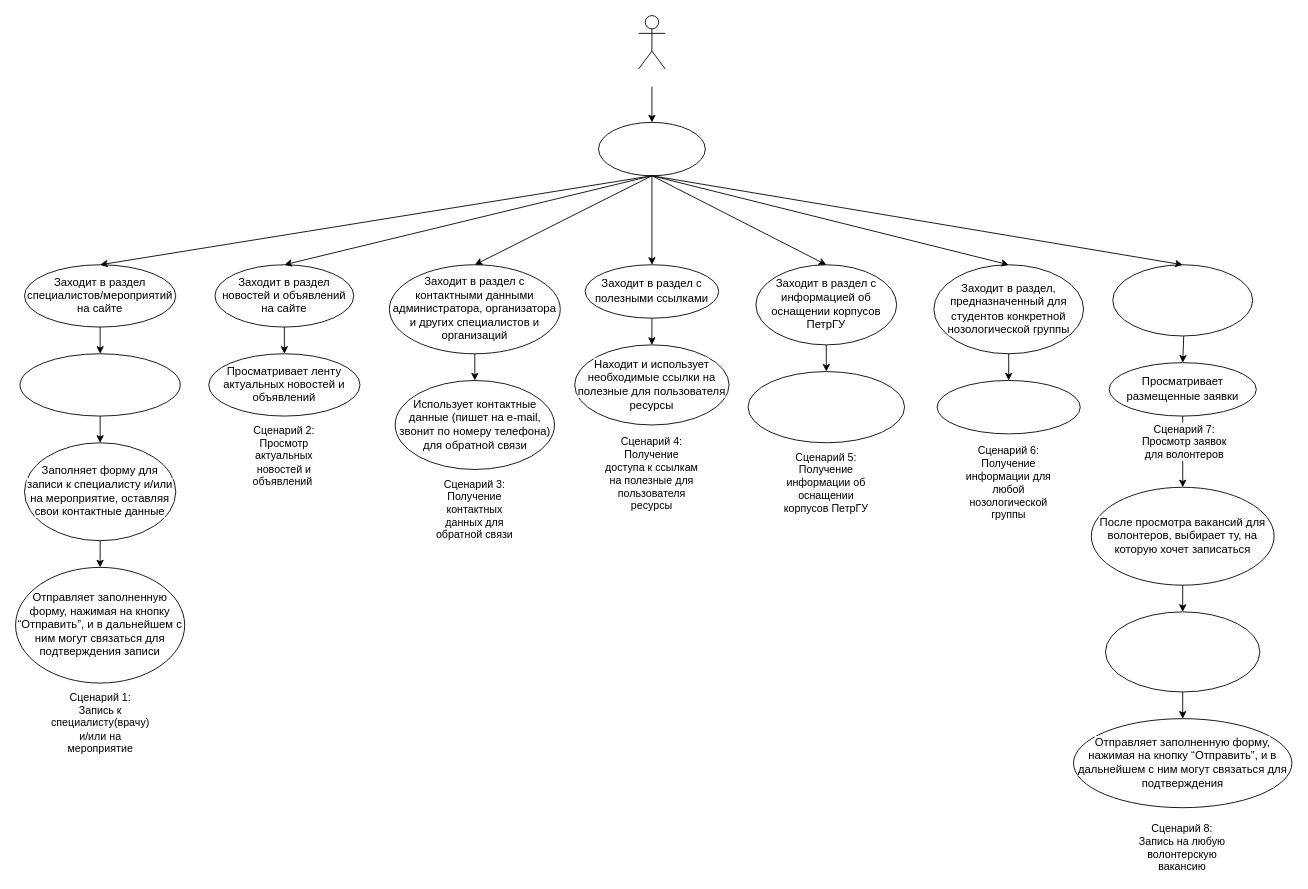
This 1308x889 diagram has some shape labels left out. The shapes that lost their labels are listed below. From the top down, each one's centre as x and y in pixels, then its label:
the point at 651,42: Пользователь
the point at 651,148: Заходит на сайт
the point at 1182,300: Заходит в раздел, где размещены заявки для волонтёров
the point at 99,384: Выбирает необходимого специалиста/мероприятие
the point at 826,407: Находит необходимую информацию об оснащении корпусов ПетрГУ
the point at 1008,407: Находит необходимую информацию
the point at 1182,651: Заполняет форму на выбранную вакансию, оставляя свои контактные данные
